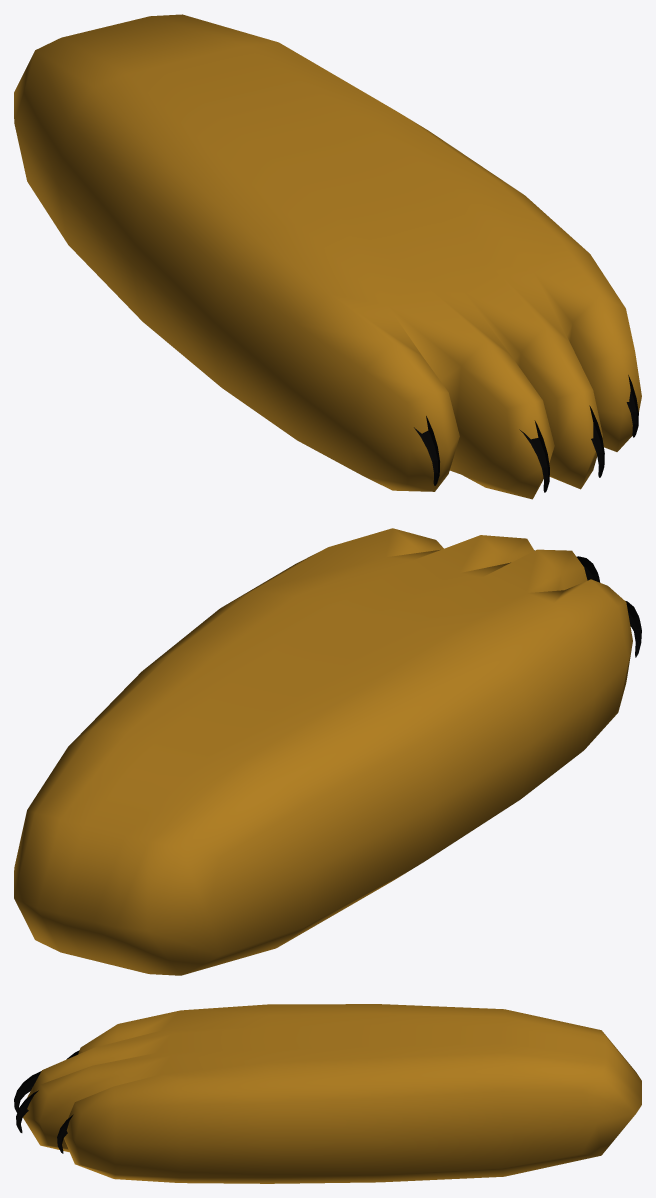
Rendered from cat_foot.glb.
The picture shows the model from 3 angles, top to bottom: view 1: azimuth 30°, elevation 25°; view 2: azimuth 150°, elevation 25°; view 3: azimuth 270°, elevation 25°; orthographic projection. The views are drawn at different scales.
Parts seen in each view (by area): view 1: Foot; view 2: Foot; view 3: Foot, Claw.002, Claw.003.
Part boxes in pixels (x1=…): Foot: x1=14, y1=14, x2=641, y2=499; Foot: x1=14, y1=528, x2=632, y2=975; Foot: x1=23, y1=1004, x2=641, y2=1183; Claw.002: x1=14, y1=1071, x2=41, y2=1112; Claw.003: x1=16, y1=1090, x2=38, y2=1132.
Bounding box in the file's own units: 0.1403 × 0.0758 × 0.3722.
1 material, 1 textured.
